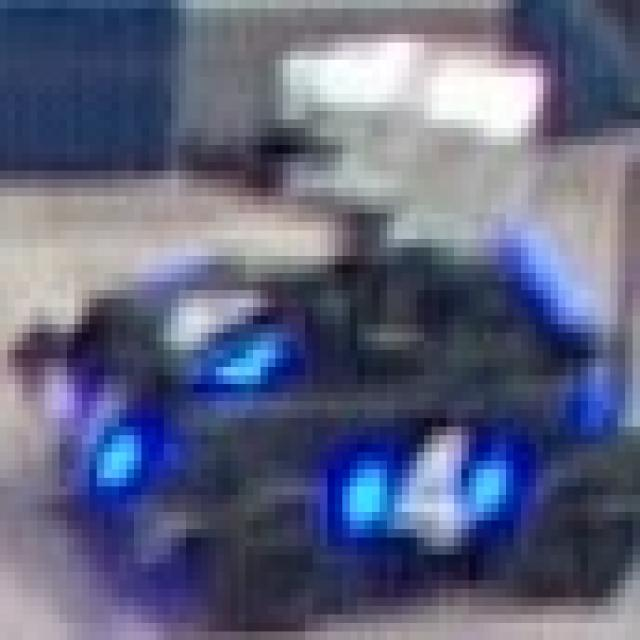B4: (342, 410, 528, 554), (142, 256, 290, 393)
